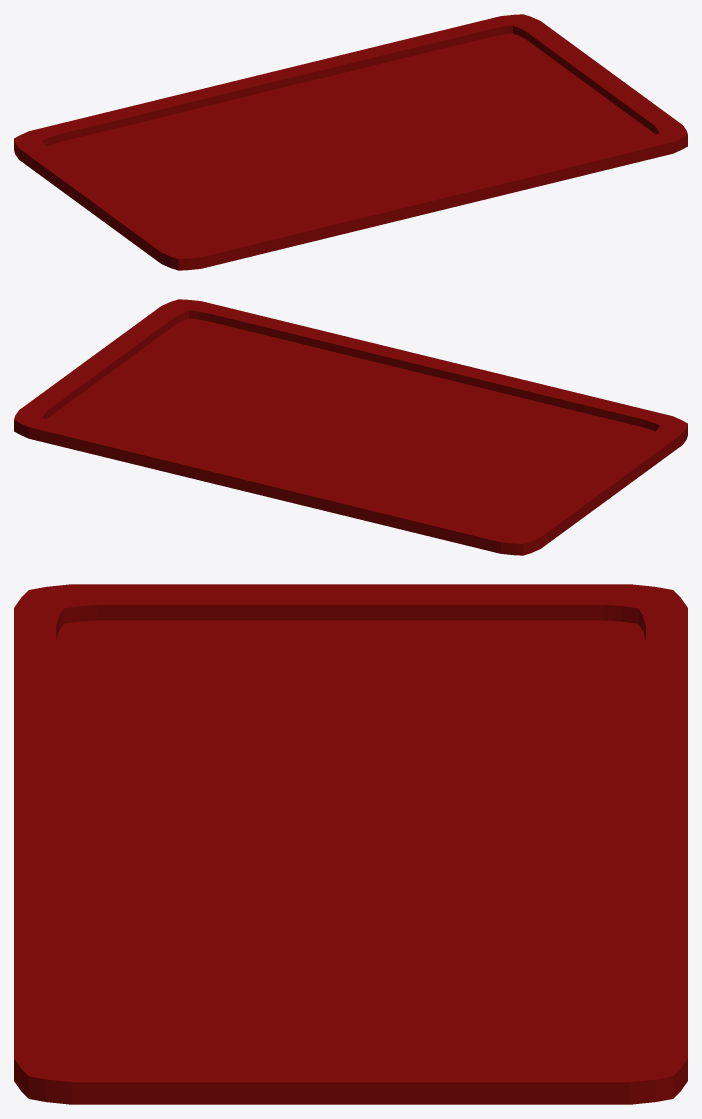
The model's file is Tray.fbx.
3 renders of one model, top to bottom at view 1: azimuth 30°, elevation 25°; view 2: azimuth 150°, elevation 25°; view 3: azimuth 270°, elevation 25°, orthographic. The views are drawn at different scales.
Visible parts, largest first — view 1: Plane, Plane.001; view 2: Plane, Plane.001; view 3: Plane, Plane.001.
Part boxes in pixels (x1,y1,x2,y2): Plane: [46, 33, 655, 247]; Plane.001: [14, 14, 687, 270]; Plane: [46, 318, 655, 532]; Plane.001: [14, 299, 687, 555]; Plane: [56, 620, 645, 1061]; Plane.001: [14, 584, 687, 1104].
Bounding box in the file's own units: 1394 × 29.53 × 797.
